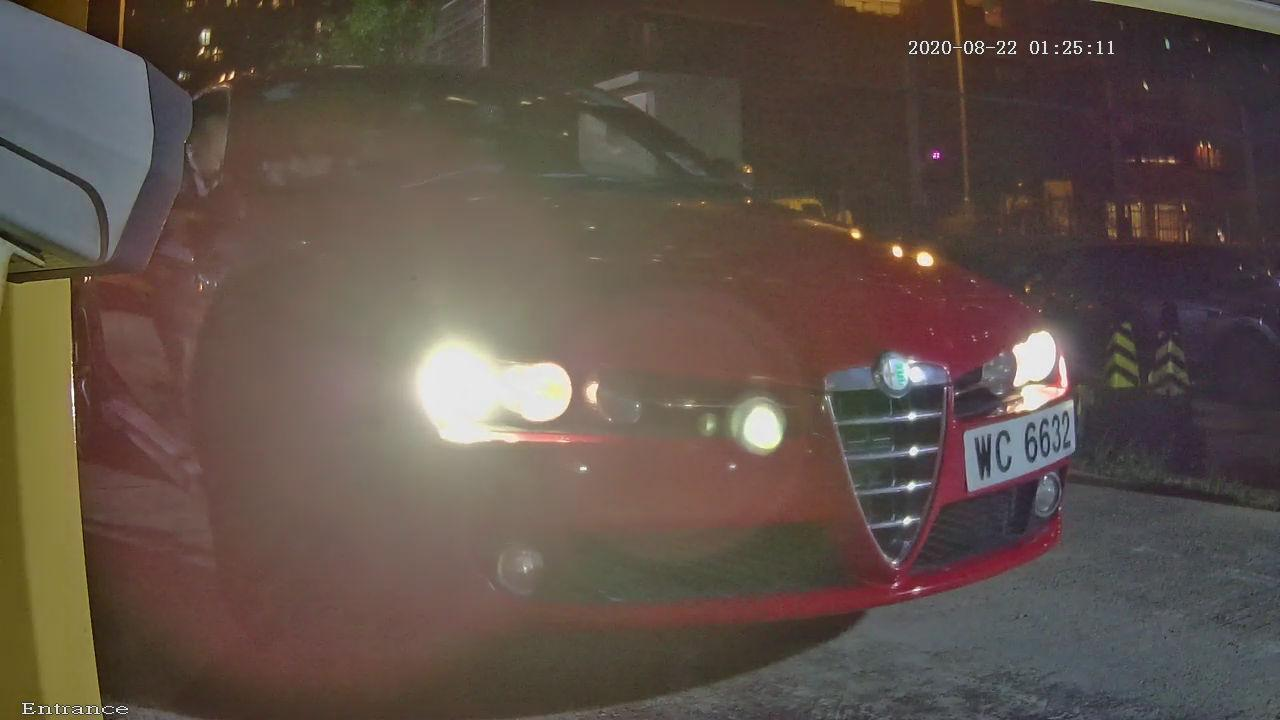Car: (63, 33, 1172, 640)
License Plate: (950, 380, 1106, 505)
